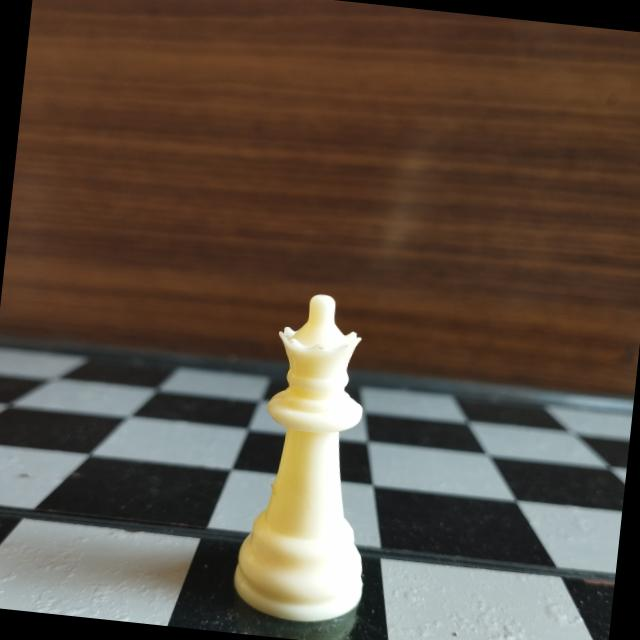White Queen: (224, 284, 400, 636)
